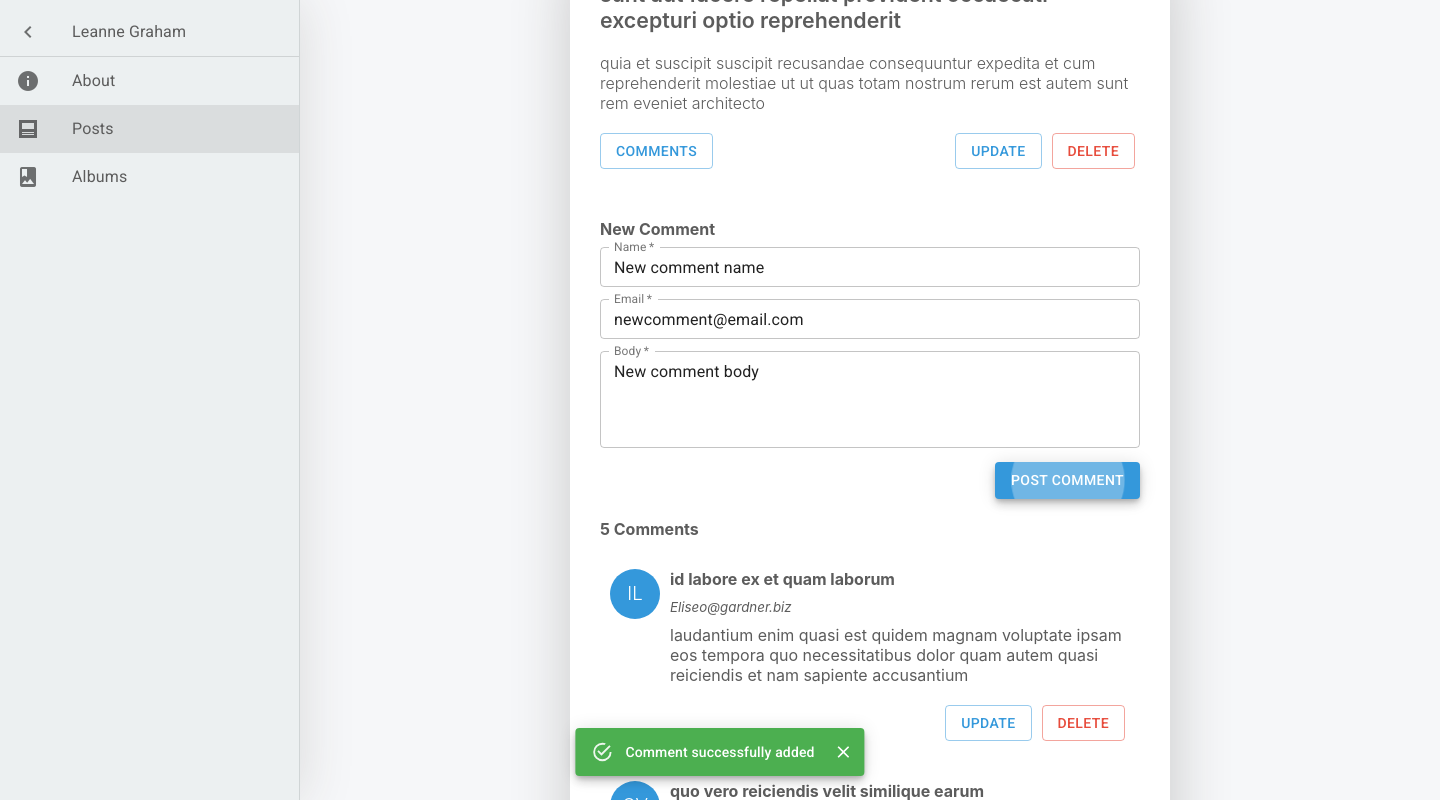
Scenario: Comments › Update a comment
(page scrolled)
Click the button with test id "comment-card-update-button" at [988, 724], box [945,705,1031,742]
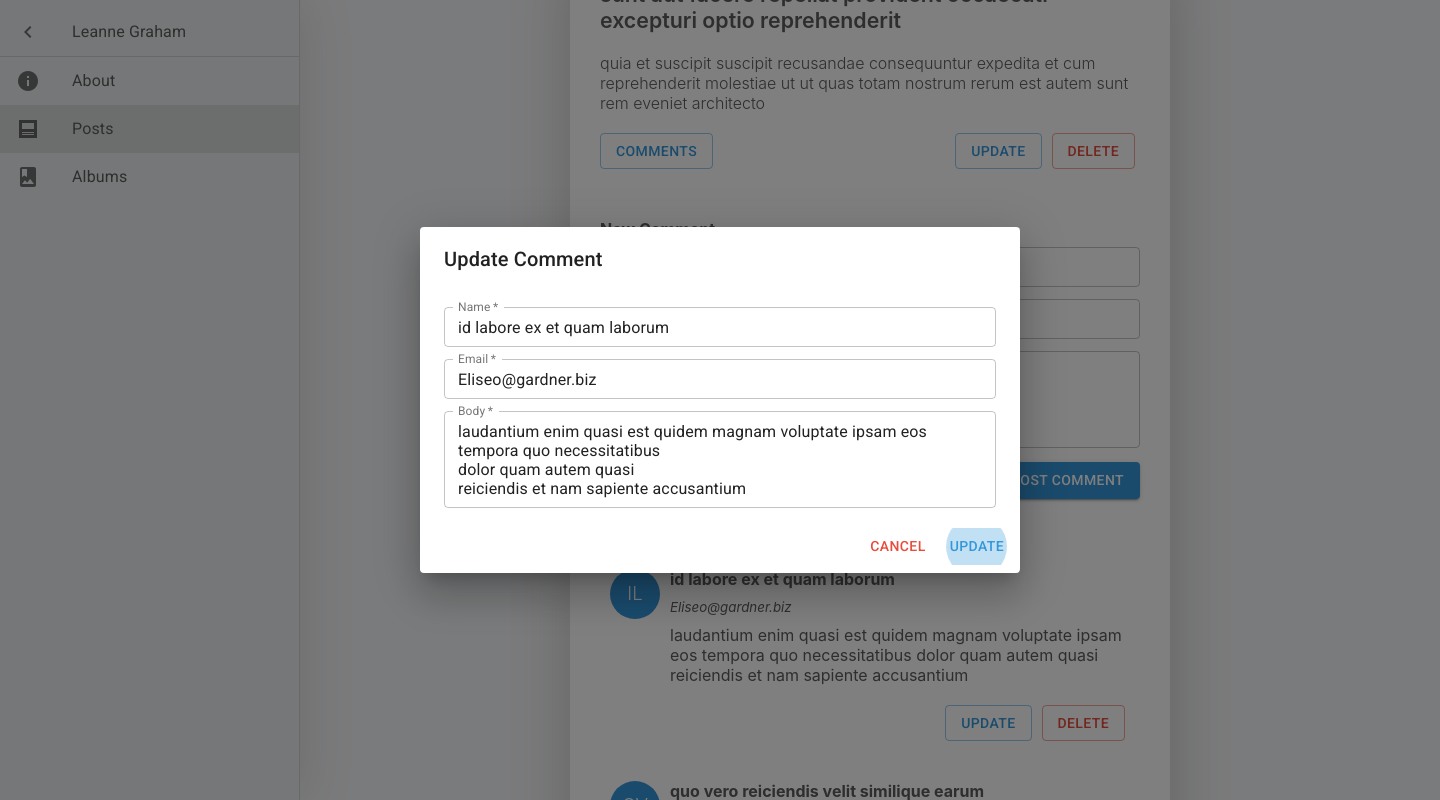
Expected: the element with test id "update-comment-dialog" is shown
Replace the text in the 1st field with "update name" at [720, 327], box [444,307,996,347]
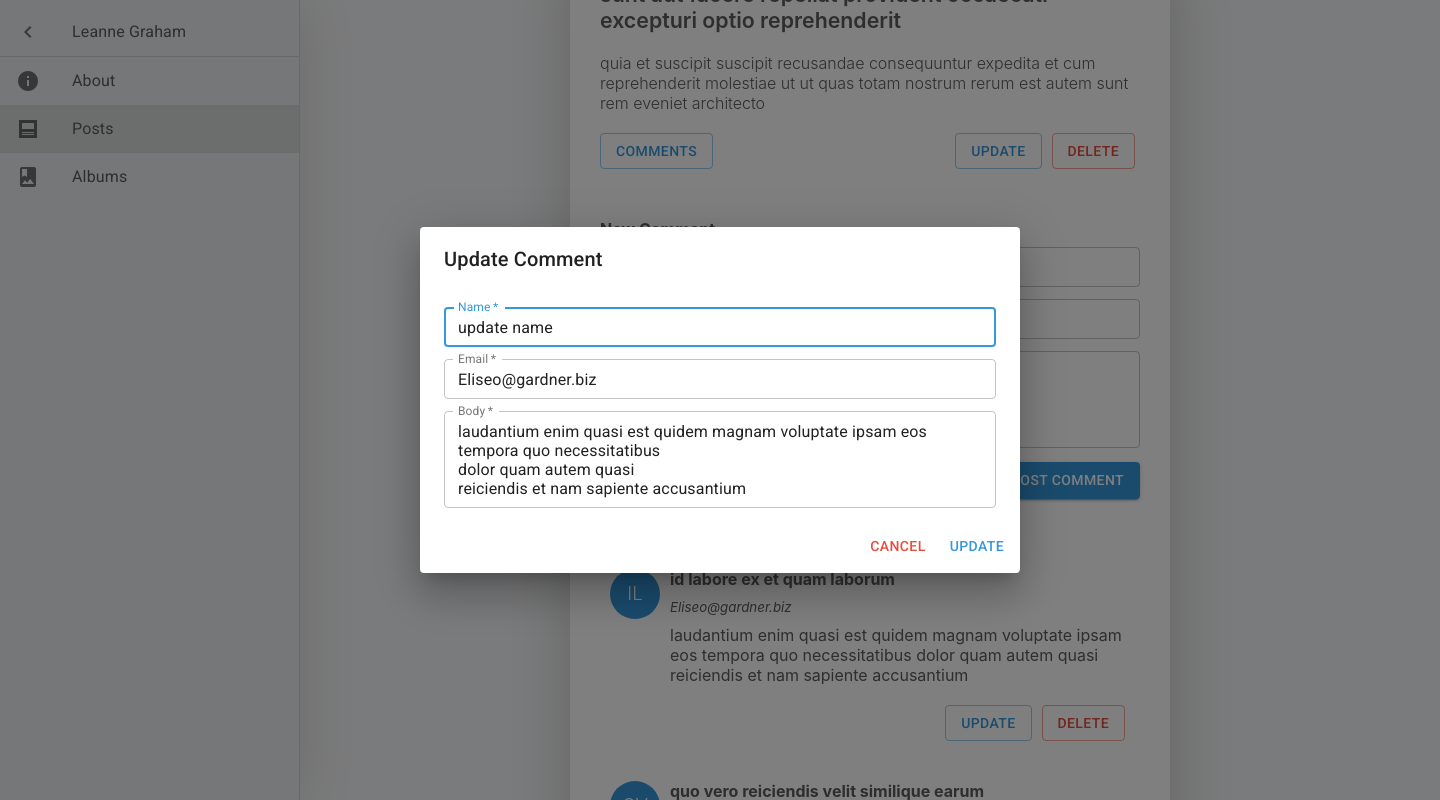
Replace the text in the 2nd field with "update@email.com" at [720, 379], box [444,359,996,399]
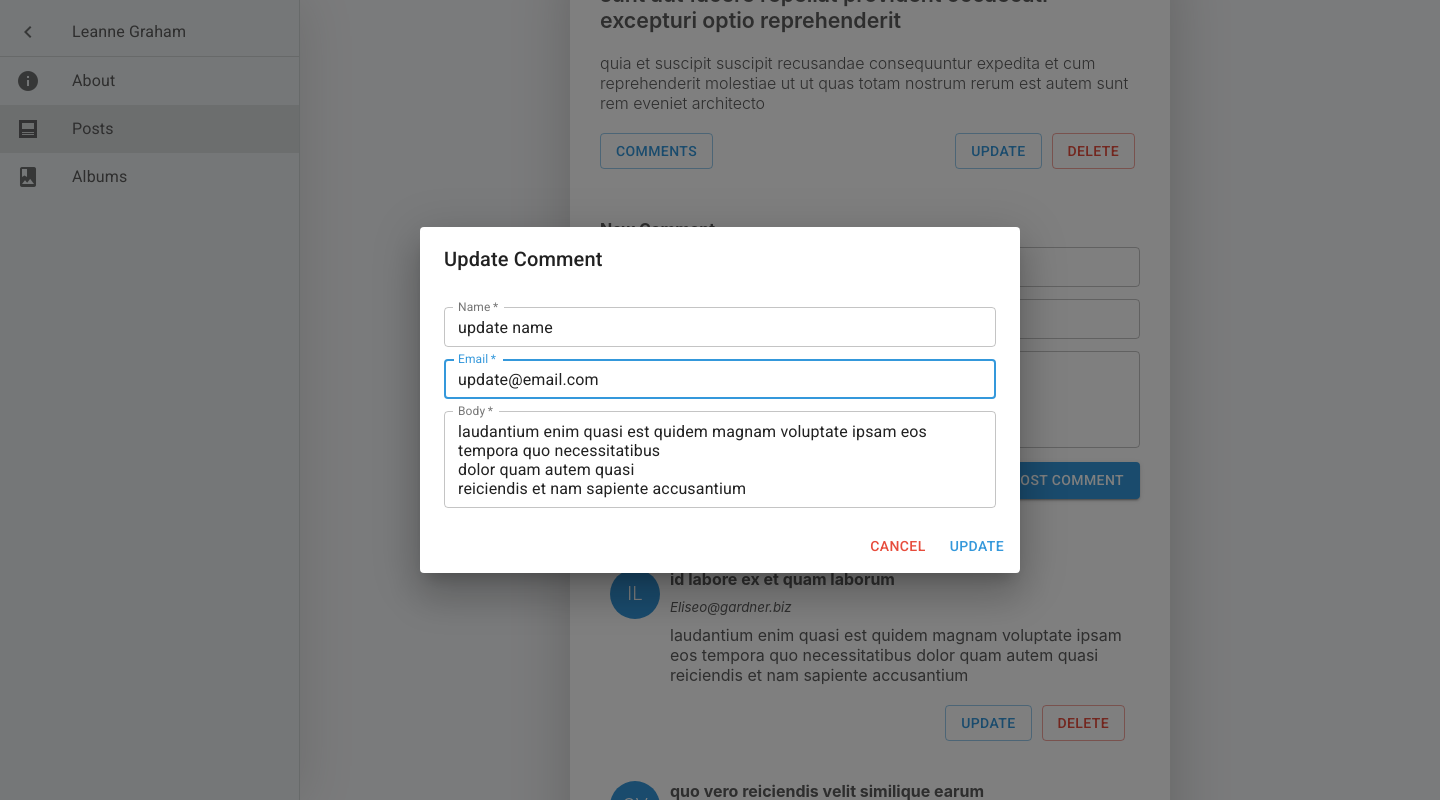
Replace the text in the text box with "update body" at [720, 460], box [458,422,982,498]
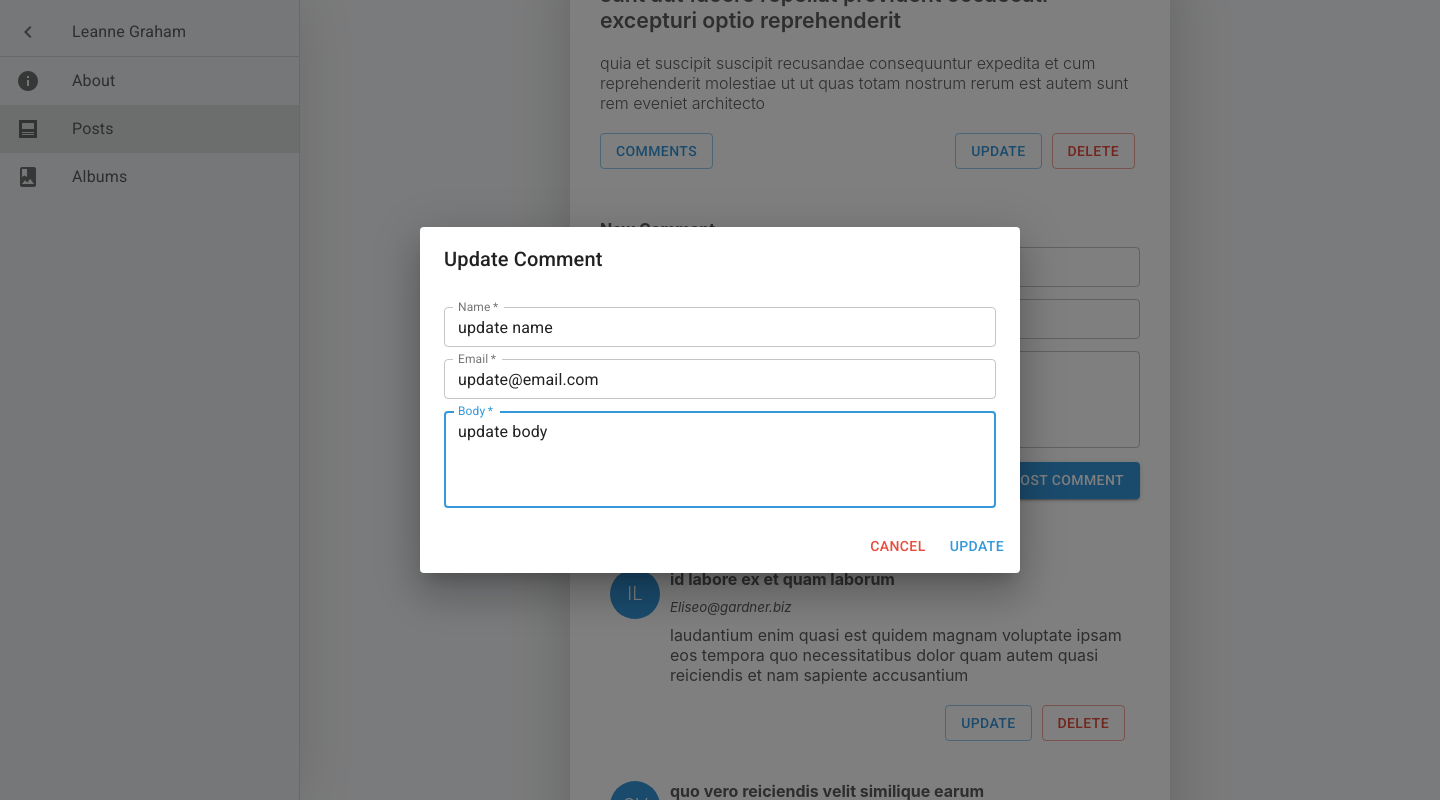
Click the button with test id "update-comment-dialog-update-button" at [977, 547], box [942,528,1012,565]
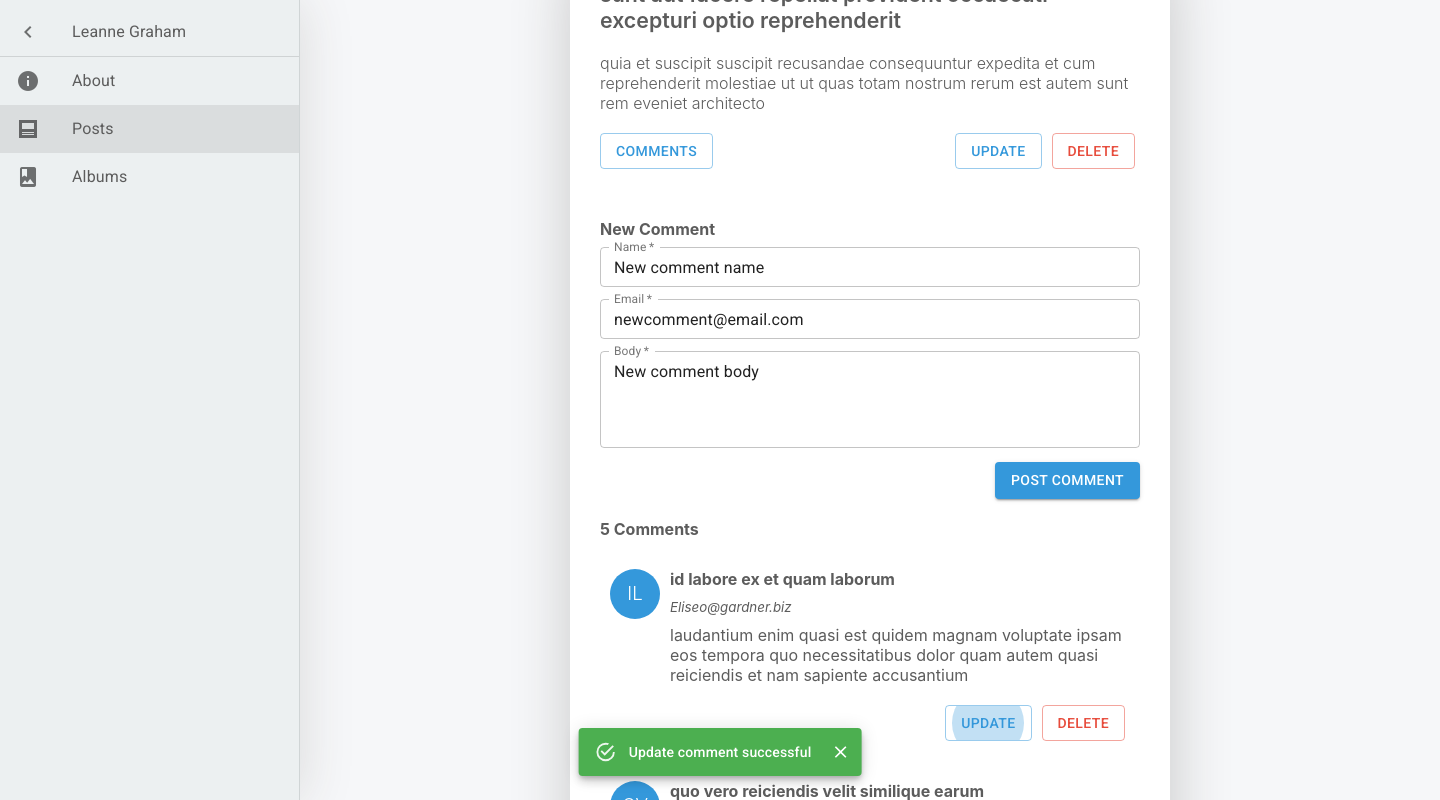
Expected: the text "Update comment successful" is shown, [629,744,811,760]
